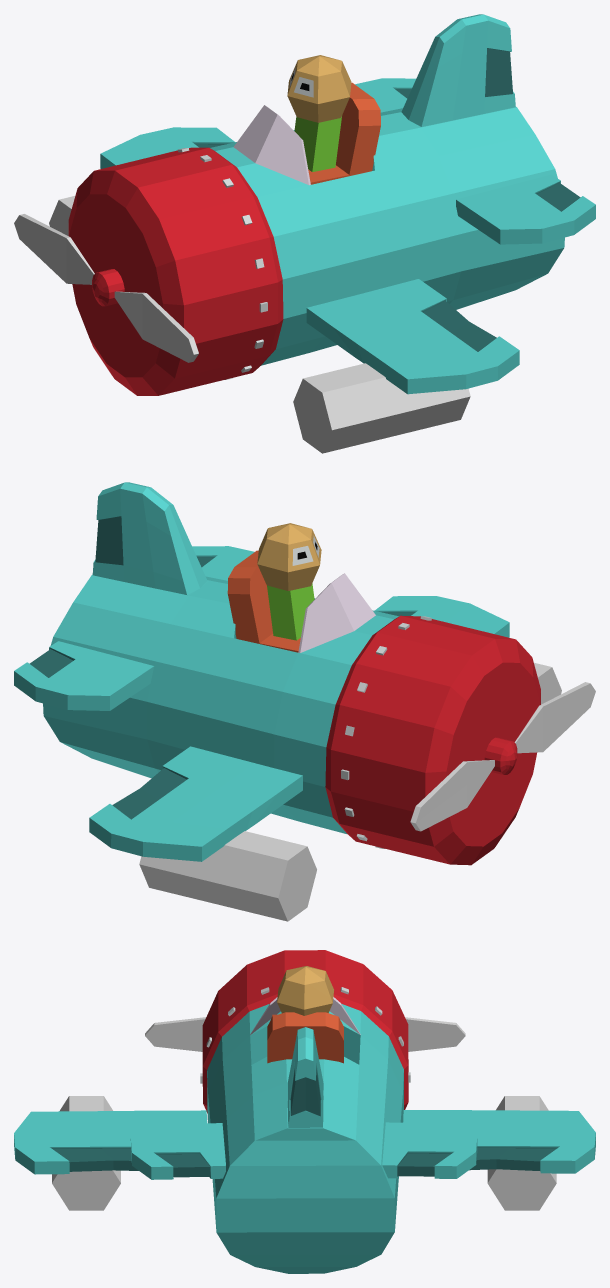
Rendered from ToyPlane.fbx.
3 views of the same model, one above another, from view 1: azimuth 30°, elevation 25°; view 2: azimuth 150°, elevation 25°; view 3: azimuth 270°, elevation 25° (orthographic). The views are drawn at different scales.
Parts seen in each view (by area): view 1: PlaneToy, ShootPointLEFT, PlanePropeller, ShootPointRIGHT; view 2: PlaneToy, ShootPointRIGHT, PlanePropeller, ShootPointLEFT; view 3: PlaneToy, PlanePropeller, ShootPointRIGHT, ShootPointLEFT.
Boxes of the visible parts, box(x1,y1,x2,y2) form: PlaneToy: box(68, 14, 595, 395); ShootPointLEFT: box(293, 363, 470, 453); PlanePropeller: box(14, 214, 198, 362); ShootPointRIGHT: box(49, 196, 75, 235); PlaneToy: box(14, 482, 540, 865); ShootPointRIGHT: box(139, 831, 316, 921); PlanePropeller: box(410, 682, 595, 831); ShootPointLEFT: box(534, 662, 561, 704); PlaneToy: box(14, 950, 595, 1273); PlanePropeller: box(145, 1017, 465, 1051); ShootPointRIGHT: box(487, 1096, 556, 1210); ShootPointLEFT: box(52, 1096, 120, 1210).
Size of the model in its own units: 478 by 313 by 640.
